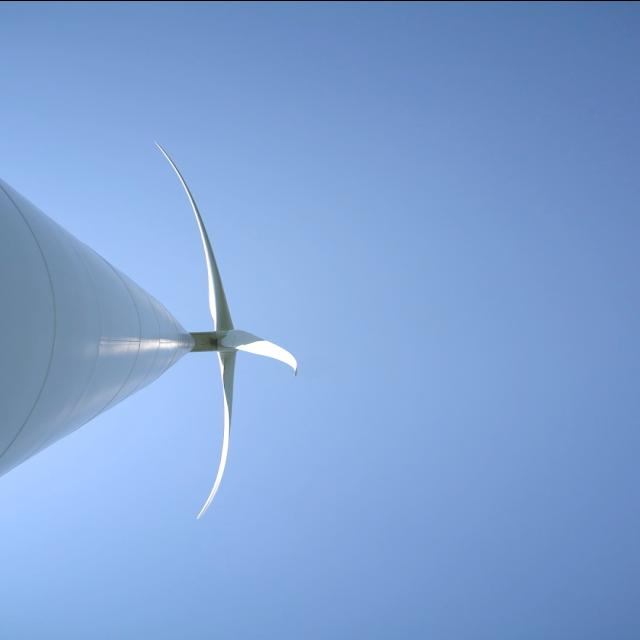blade 1: (197, 354, 243, 563)
blade 2: (250, 326, 308, 376)
blade 3: (159, 134, 234, 294)
